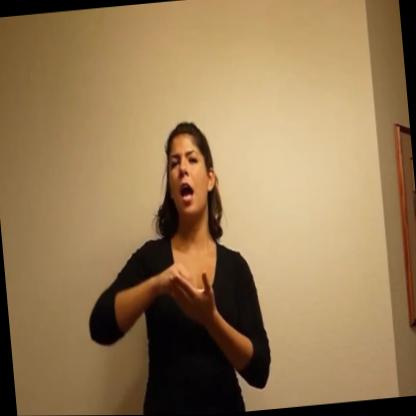Expensive: (147, 229, 223, 341)
